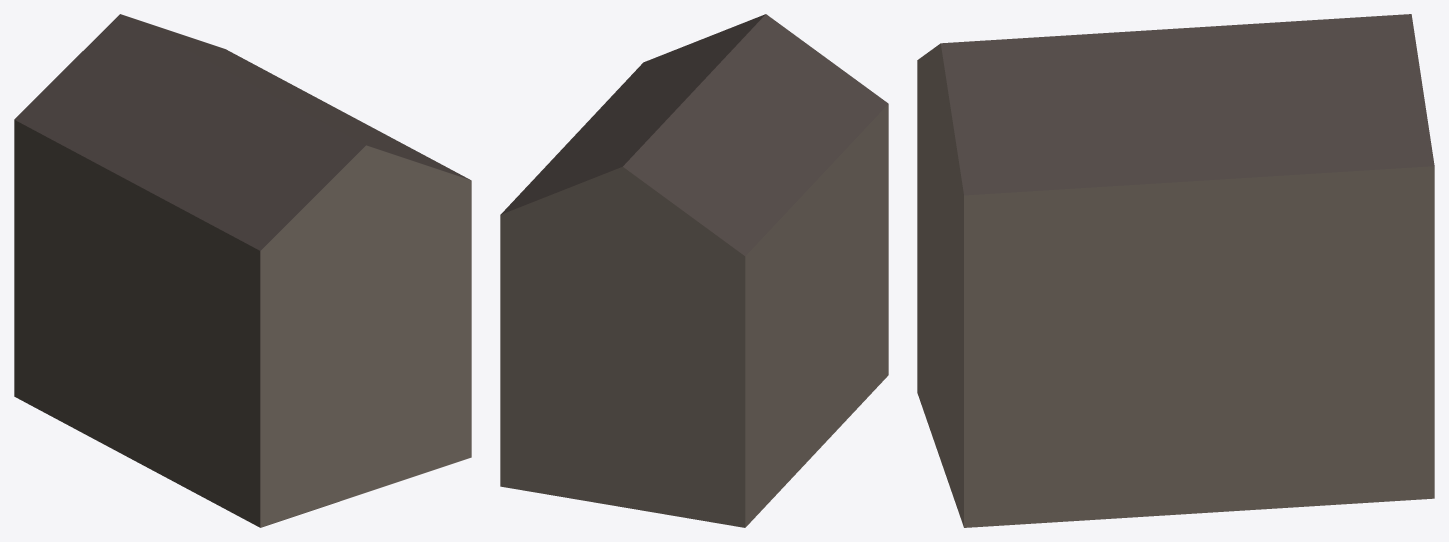
3 views of the same model, side by side, from view 1: azimuth 30°, elevation 25°; view 2: azimuth 150°, elevation 25°; view 3: azimuth 270°, elevation 25° (orthographic). The views are drawn at different scales.
Parts seen in each view (by area): view 1: HP-w1424106432; view 2: HP-w1424106432; view 3: HP-w1424106432.
Part boxes in pixels (x1,y1,x2,y2): HP-w1424106432: [14, 14, 471, 527]; HP-w1424106432: [500, 14, 888, 527]; HP-w1424106432: [917, 14, 1434, 527].
Size of the model in its own units: 6.37 by 7.53 by 8.46.
